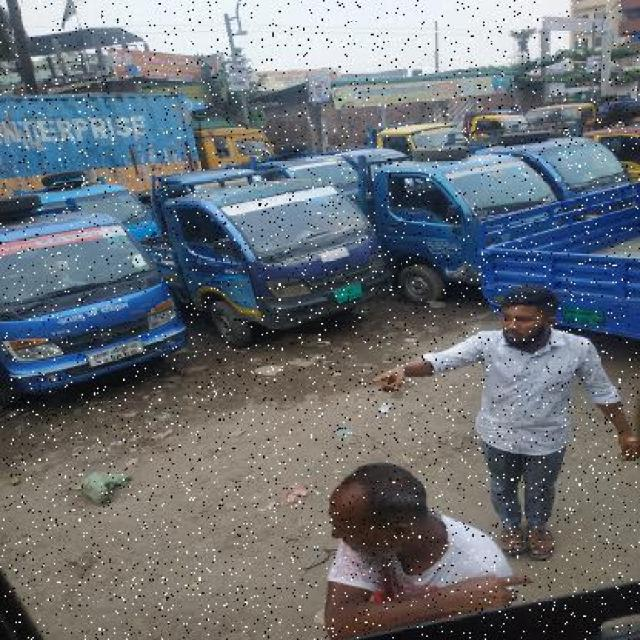numberplate: (84, 344, 155, 363), (329, 278, 363, 304)
